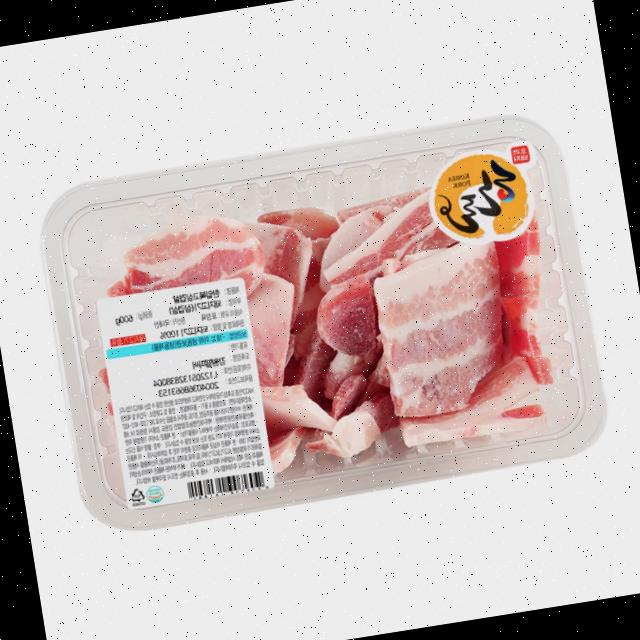meat: (16, 75, 621, 549)
